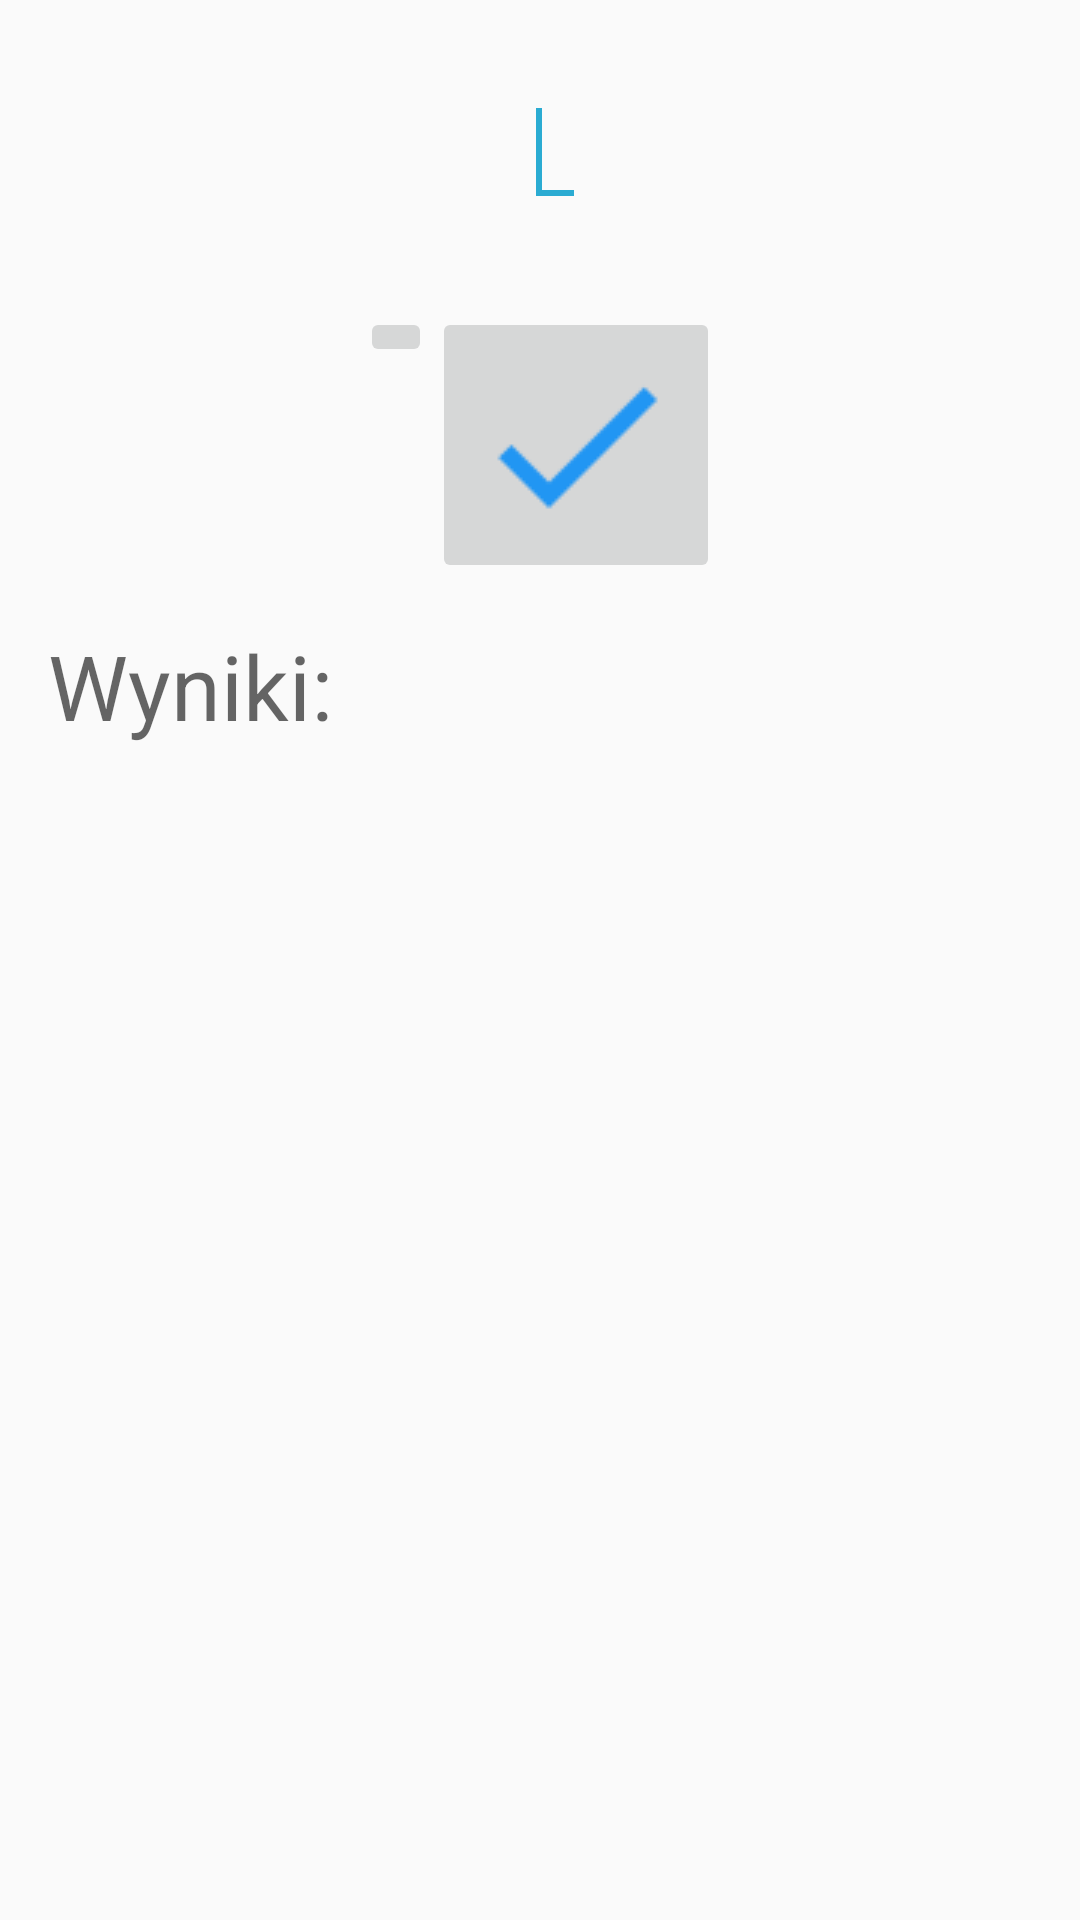

Icons on this 1080px×1920px Android screen, each with its box as (x1, y1, x2, y2):
zatwierdz: (444, 325, 708, 565)
